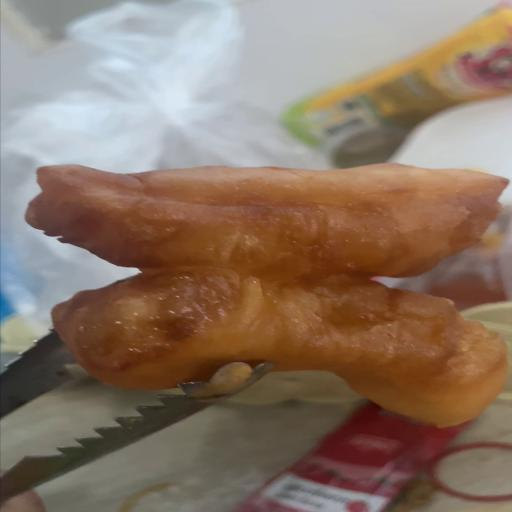street_burnt_good: (38, 162, 509, 425)
